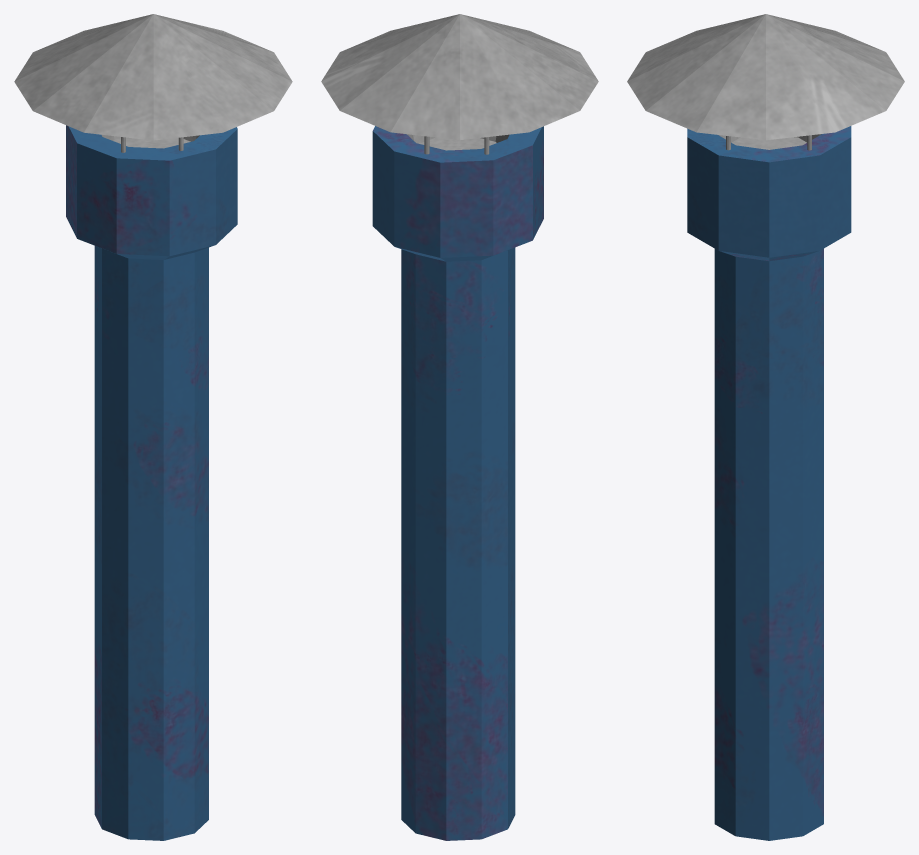
File: chimney .fbx
3 views of the same model, side by side, from view 1: azimuth 30°, elevation 25°; view 2: azimuth 150°, elevation 25°; view 3: azimuth 270°, elevation 25° (orthographic).
Visible parts, largest first — view 1: pCone4; view 2: pCone4; view 3: pCone4.
Boxes of the visible parts, bbox=[...] form: pCone4: bbox=[14, 14, 292, 840]; pCone4: bbox=[321, 14, 598, 840]; pCone4: bbox=[627, 14, 904, 840].
Size of the model in its own units: 2.63 by 8.39 by 2.63.
